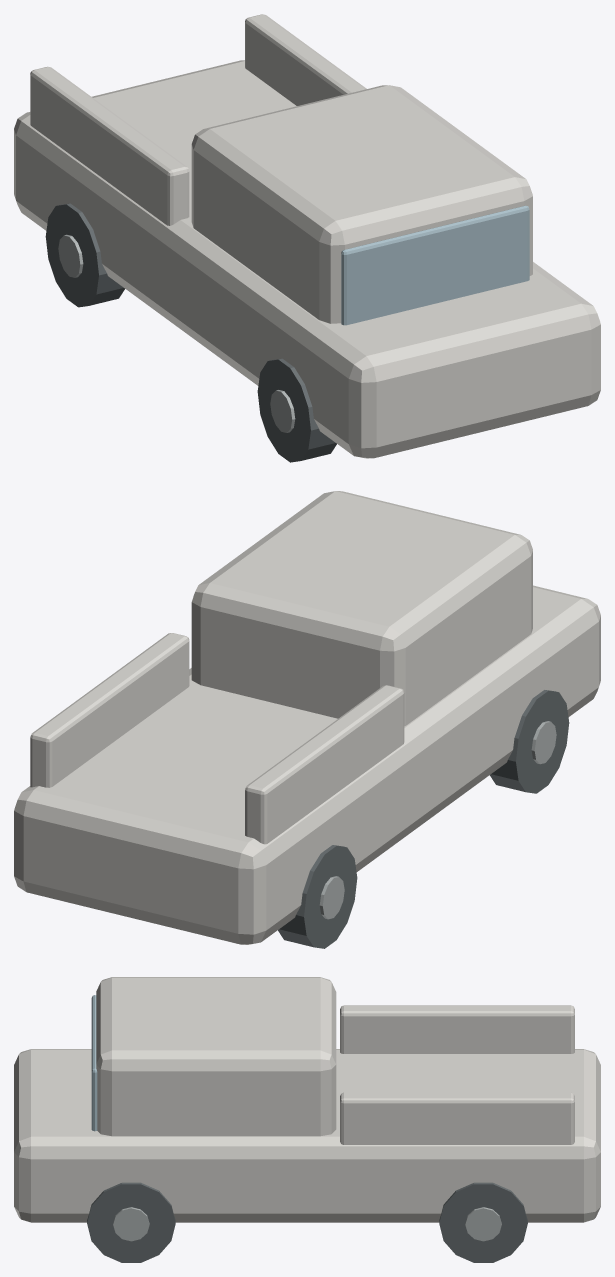
Rendered from contractor-pickup.glb.
3 views of the same model, one above another, from view 1: azimuth 30°, elevation 25°; view 2: azimuth 150°, elevation 25°; view 3: azimuth 270°, elevation 25° (orthographic). The views are drawn at different scales.
Parts seen in each view (by area): view 1: lower_body, cab, windshield, bed_left, bed_right, wheel_-1_1, wheel_-1_0, hub_-1_1, hub_-1_0; view 2: lower_body, cab, bed_left, bed_right, wheel_-1_1, wheel_-1_0, hub_-1_0, hub_-1_1; view 3: lower_body, cab, bed_right, bed_left, wheel_1_0, wheel_1_1, hub_1_0, hub_1_1, windshield.
Part boxes in pixels (x1,y1,x2,y2): lower_body: (14, 60, 600, 458); cab: (191, 85, 532, 323); windshield: (341, 205, 529, 325); bed_left: (30, 66, 189, 225); bed_right: (245, 14, 366, 105); wheel_-1_1: (45, 203, 124, 307); wheel_-1_0: (257, 358, 336, 462); hub_-1_1: (58, 234, 83, 277); hub_-1_0: (270, 390, 295, 432); lower_body: (14, 585, 600, 944); cab: (191, 491, 532, 726); bed_left: (245, 685, 404, 844); bed_right: (30, 633, 189, 787); wheel_-1_1: (278, 845, 357, 948); wheel_-1_0: (490, 690, 569, 793); hub_-1_0: (531, 721, 556, 764); hub_-1_1: (319, 876, 344, 919); lower_body: (14, 1049, 600, 1222); cab: (96, 977, 336, 1136); bed_right: (340, 1092, 574, 1144); bed_left: (340, 1005, 574, 1053); wheel_1_0: (87, 1182, 175, 1262); wheel_1_1: (439, 1182, 527, 1262); hub_1_0: (113, 1207, 149, 1241); hub_1_1: (465, 1207, 501, 1241); windshield: (91, 995, 97, 1131).
Size of the model in its own units: 1.94 by 1.66 by 4.5.
